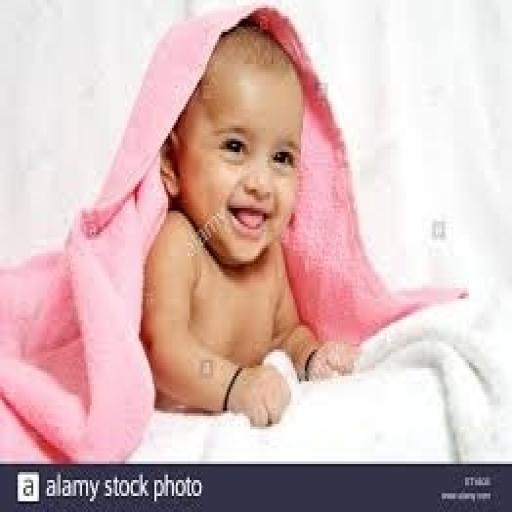laughing: (129, 16, 362, 429)
